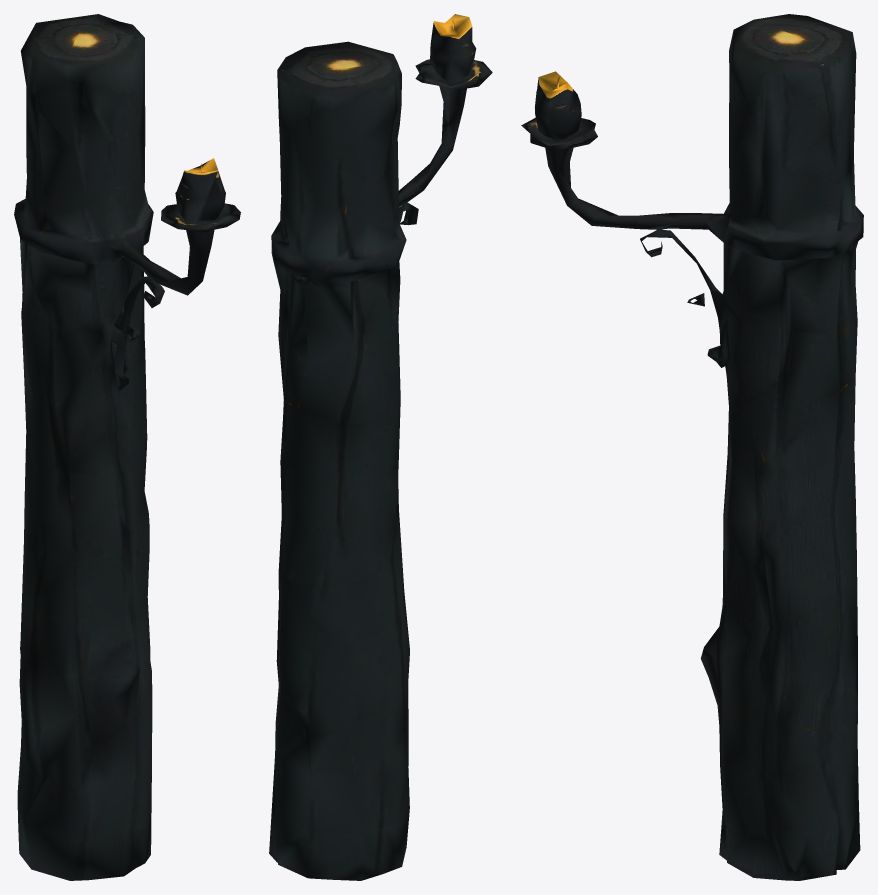
Rendered from torch-post.glb.
3 renders of one model, left to right at view 1: azimuth 30°, elevation 25°; view 2: azimuth 150°, elevation 25°; view 3: azimuth 270°, elevation 25°, orthographic. The views are drawn at different scales.
Size of the model in its own units: 0.2952 by 1.9 by 0.7219.
1 material, 1 textured.
